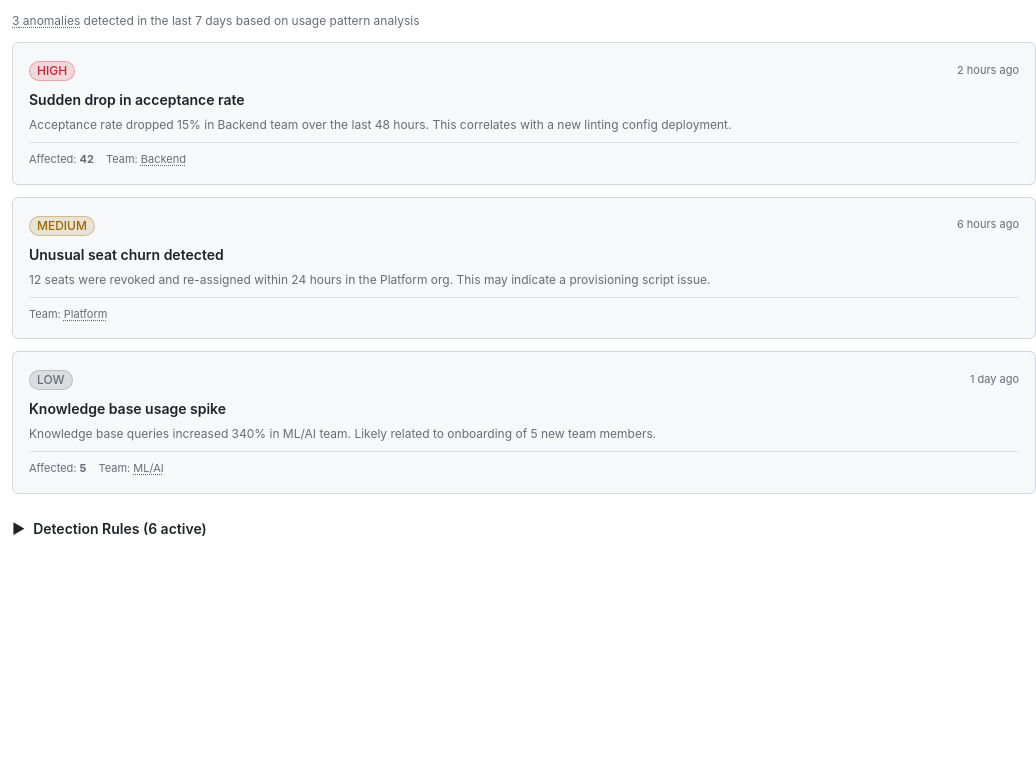
Test: AnomaliesPane clickable stats › filters anomalies by severity when clicking a badge
# Click the HIGH badge to filter
Step 1. Click the button "HIGH" → (52, 70), box 29,59 -> 75,81
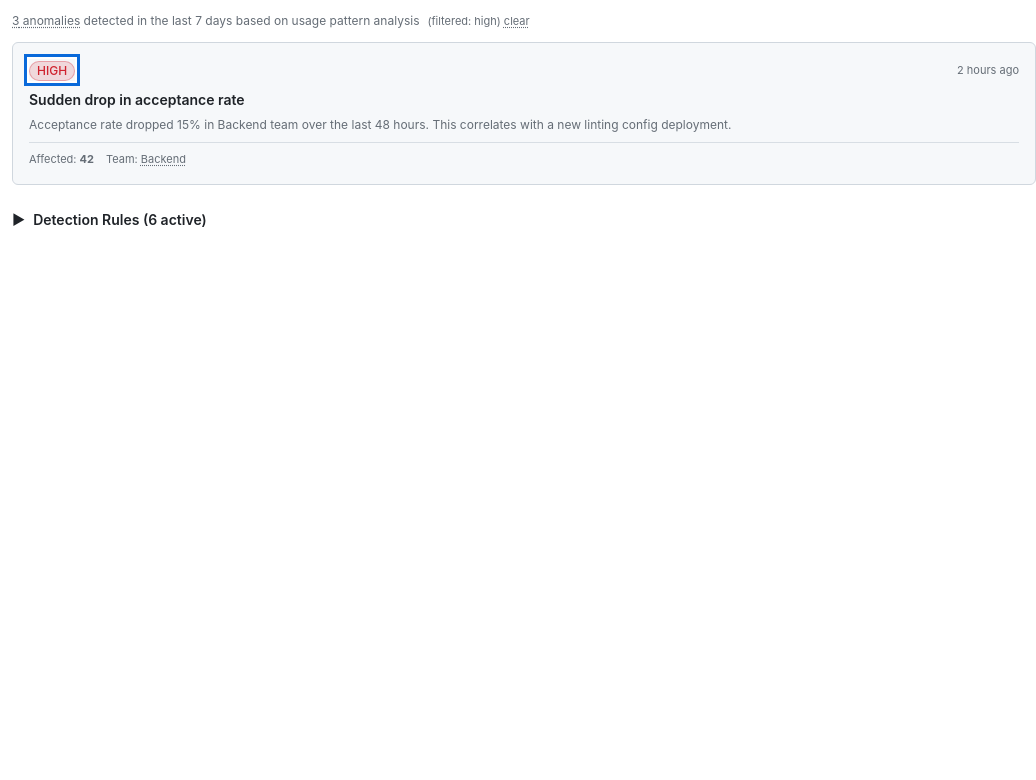
Check: the text "(filtered: high) clear" is shown, box 428,14 -> 530,28
Check: the text "Unusual seat churn detected" is gone
Check: the text "Knowledge base usage spike" is gone
